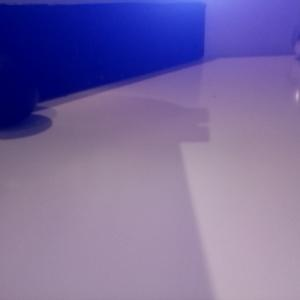alive_ball: (291, 26, 300, 58)
dead_ball: (1, 53, 37, 125)
